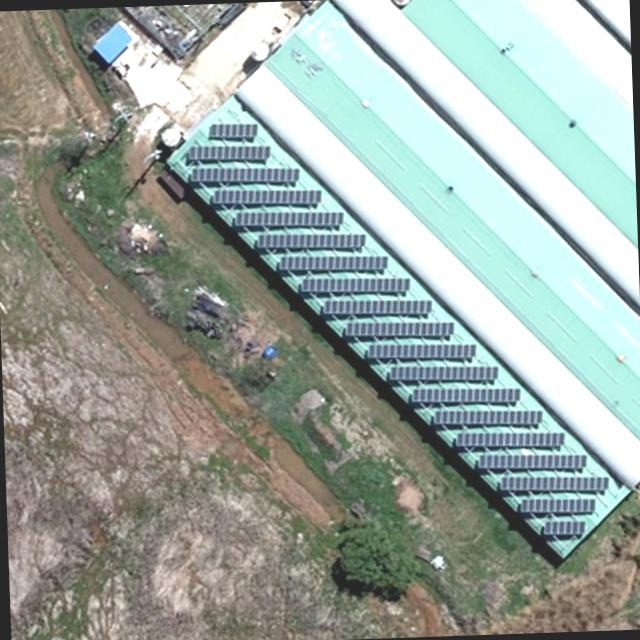solar: (386, 360, 499, 386), (408, 383, 521, 407), (210, 186, 324, 209), (188, 164, 302, 187), (454, 428, 567, 450), (255, 229, 368, 251), (232, 208, 345, 230), (433, 407, 545, 429), (364, 340, 479, 360), (342, 320, 456, 340), (300, 274, 414, 294), (274, 256, 389, 274), (476, 452, 586, 470), (320, 299, 432, 316), (498, 477, 610, 493), (517, 496, 599, 516), (186, 144, 271, 162), (208, 122, 259, 140), (542, 518, 585, 537)
